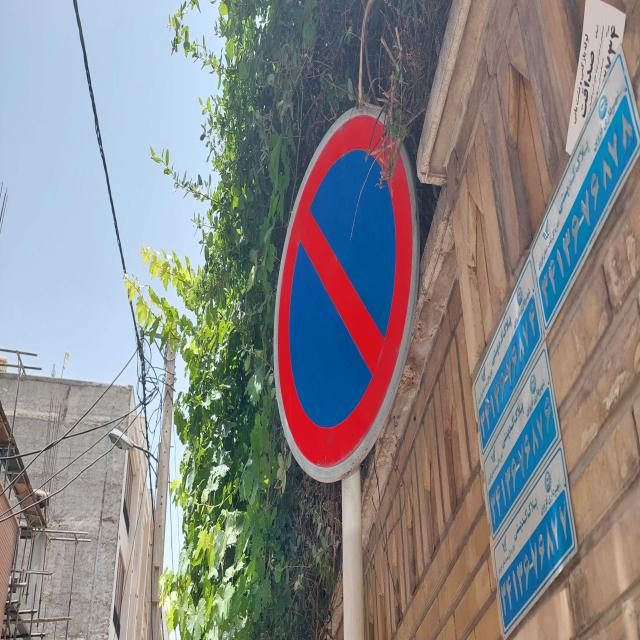forb_stopping: (273, 101, 426, 486)
